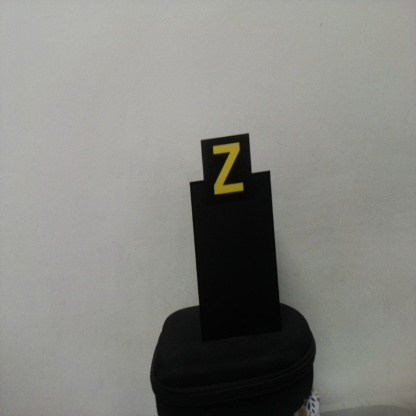id_15: (201, 140, 253, 203)
